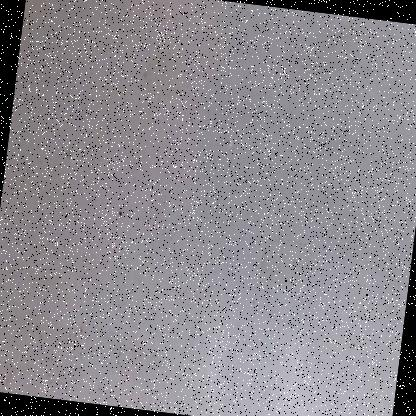Nocrack: (20, 9, 410, 413)
